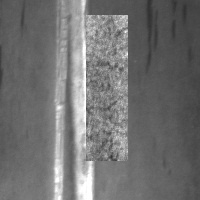crazing: (86, 15, 128, 161)
inclusion: (144, 1, 161, 71), (170, 1, 187, 39), (18, 1, 29, 27)
scratches: (50, 1, 95, 199)
